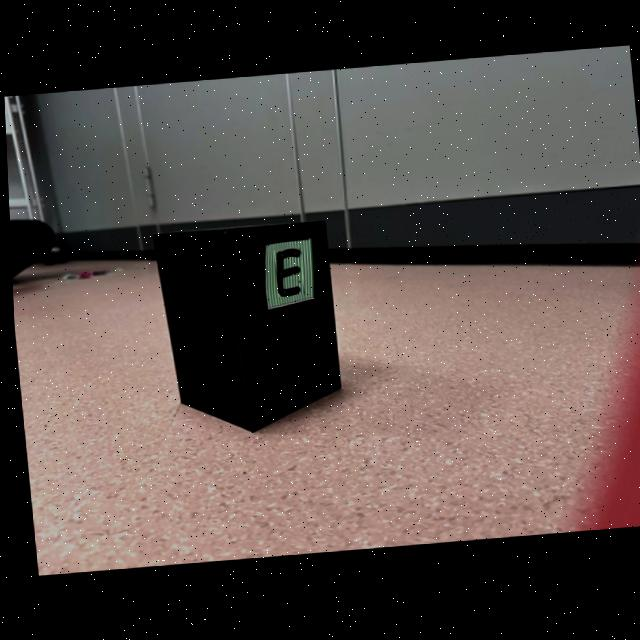E: (274, 251, 299, 298)
